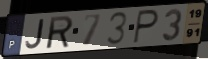3: (105, 10, 129, 47), (160, 7, 183, 43)
7: (82, 12, 102, 48)
J: (24, 18, 45, 50)
P: (131, 8, 160, 45)
R: (46, 14, 75, 51)
